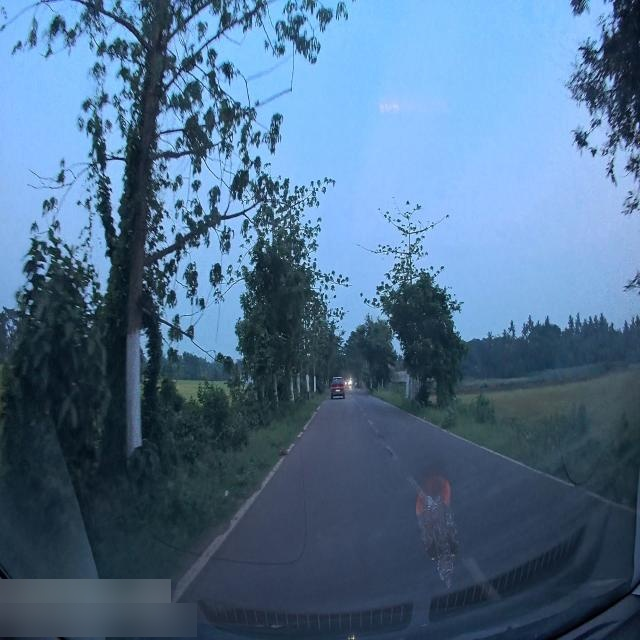pothole: (380, 444, 396, 460), (376, 433, 385, 444)
